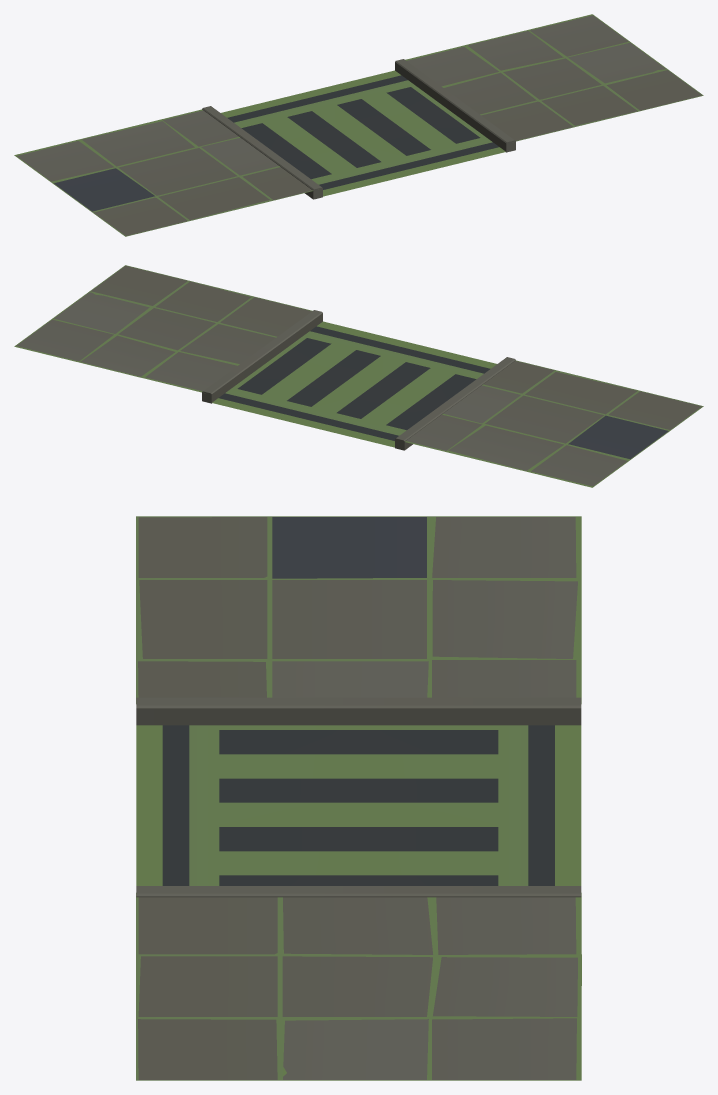
File: Road_25.fbx
3 views of the same model, one above another, from view 1: azimuth 30°, elevation 25°; view 2: azimuth 150°, elevation 25°; view 3: azimuth 270°, elevation 25° (orthographic). The views are drawn at different scales.
Parts seen in each view (by area): view 1: Road_25; view 2: Road_25; view 3: Road_25.
Part boxes in pixels (x1,y1,x2,y2): Road_25: [14, 14, 703, 236]; Road_25: [14, 265, 703, 487]; Road_25: [136, 516, 581, 1080].
Size of the model in its own units: 9 by 0.15 by 3.01.
